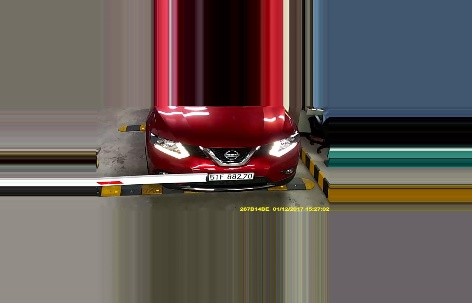plate: (208, 169, 254, 181)
